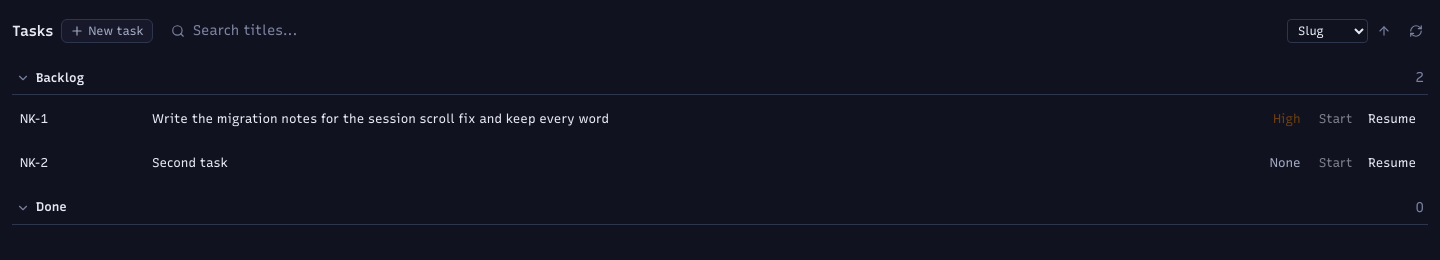
Test: kanban board: list view and item review (spec Behaviour 14, AC14) › says there is no description when the item has none
This screenshot has width=1440, height=260.
What coordinates should you click on to do the following:
click the button "Second task"
I would click on:
 (190, 164)
Its box is x1=150 y1=152 x2=230 y2=175.
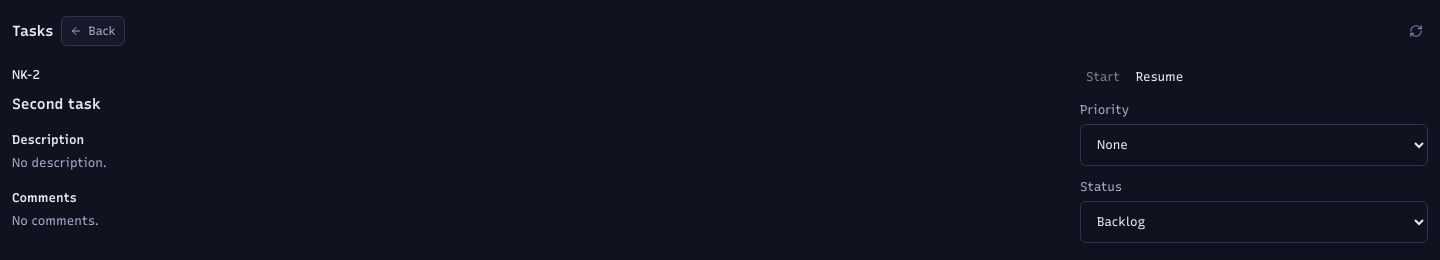
Check: the text with test id "kanban-review-description" reads "No description.", box x1=12 y1=155 x2=107 y2=170
